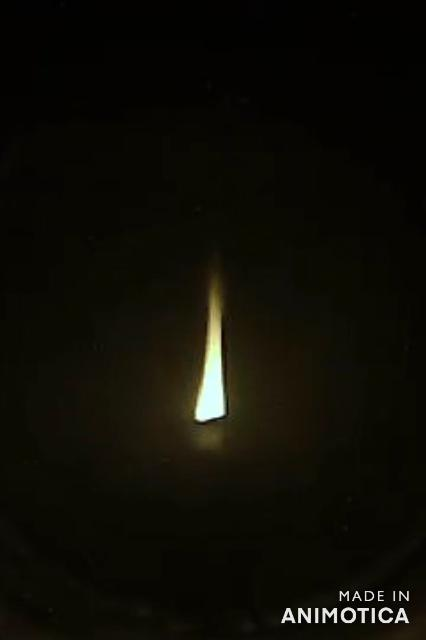burner flame: (192, 272, 230, 424)
